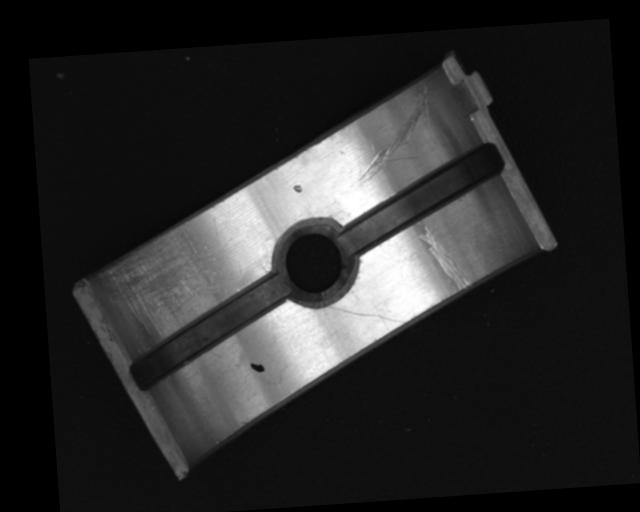blot: (249, 361, 266, 373)
bruise: (293, 183, 303, 194)
gap: (121, 276, 293, 391), (336, 143, 512, 254)
hole: (271, 218, 359, 310)
nick: (351, 83, 435, 182), (416, 218, 472, 294), (327, 300, 409, 328)
scratch: (92, 211, 221, 340)
